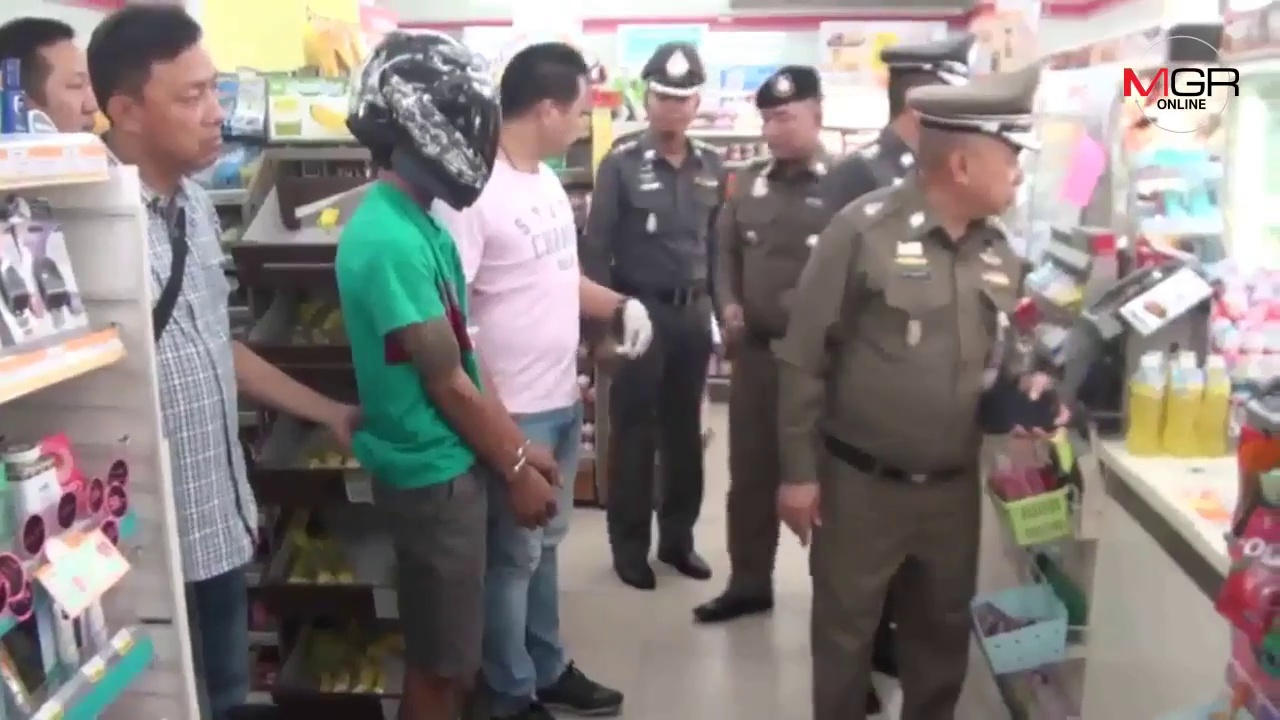helmet: (361, 25, 503, 215)
